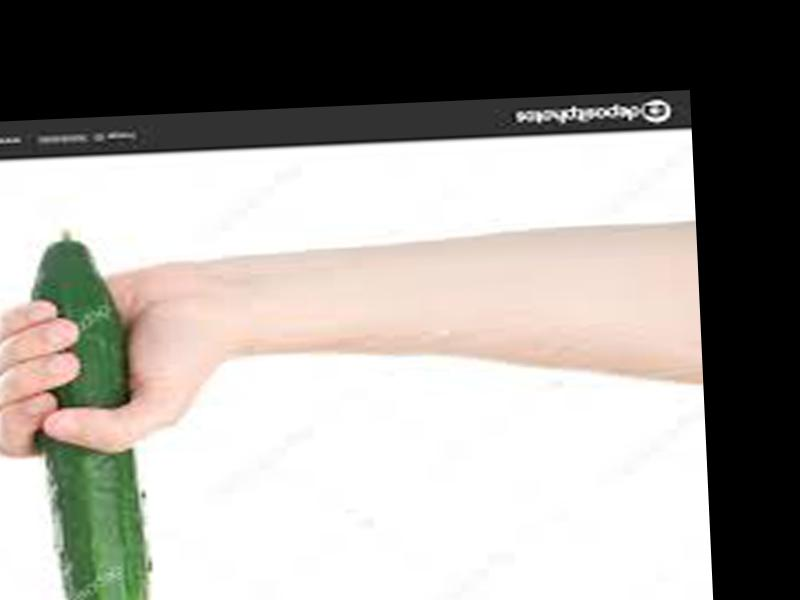Cucumber: (28, 229, 151, 600)
